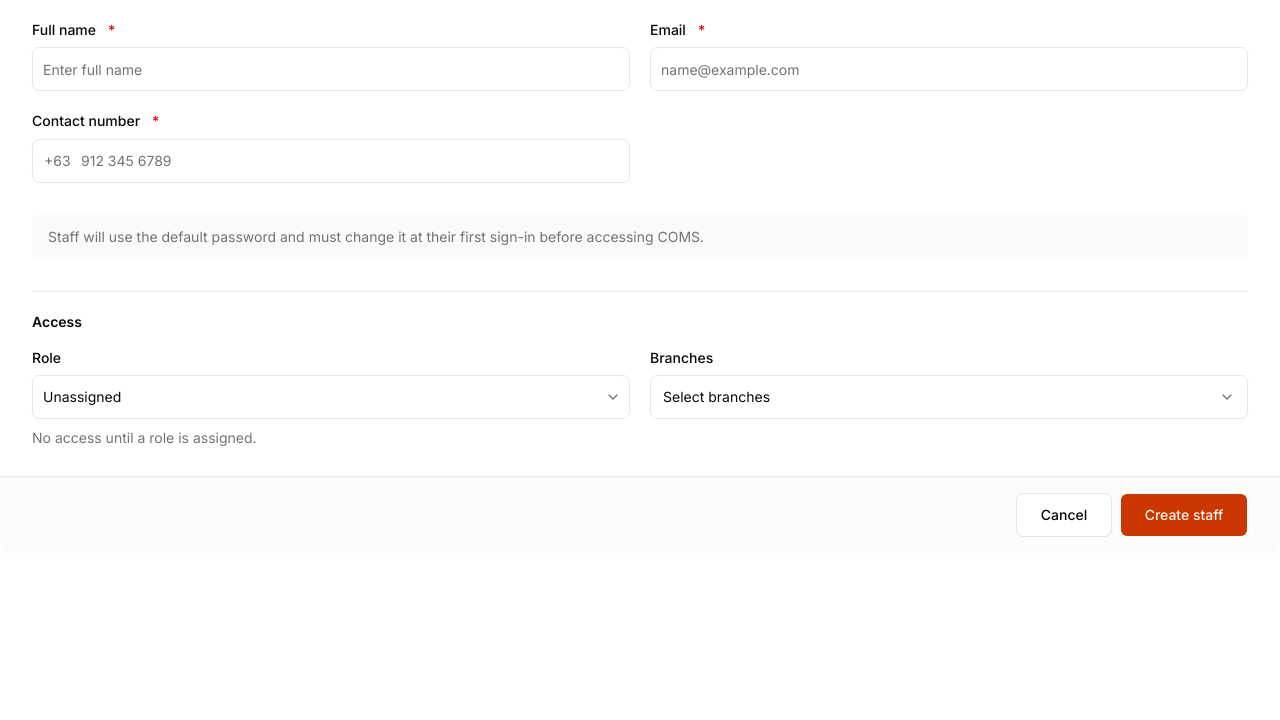
Test case: staff creation › shows inline email and contact number errors before sending a request
The width and height of the screenshot is (1280, 720).
Type "Alex Staff" into the field labelled "Full name" at (331,69), box [32,47,630,91]
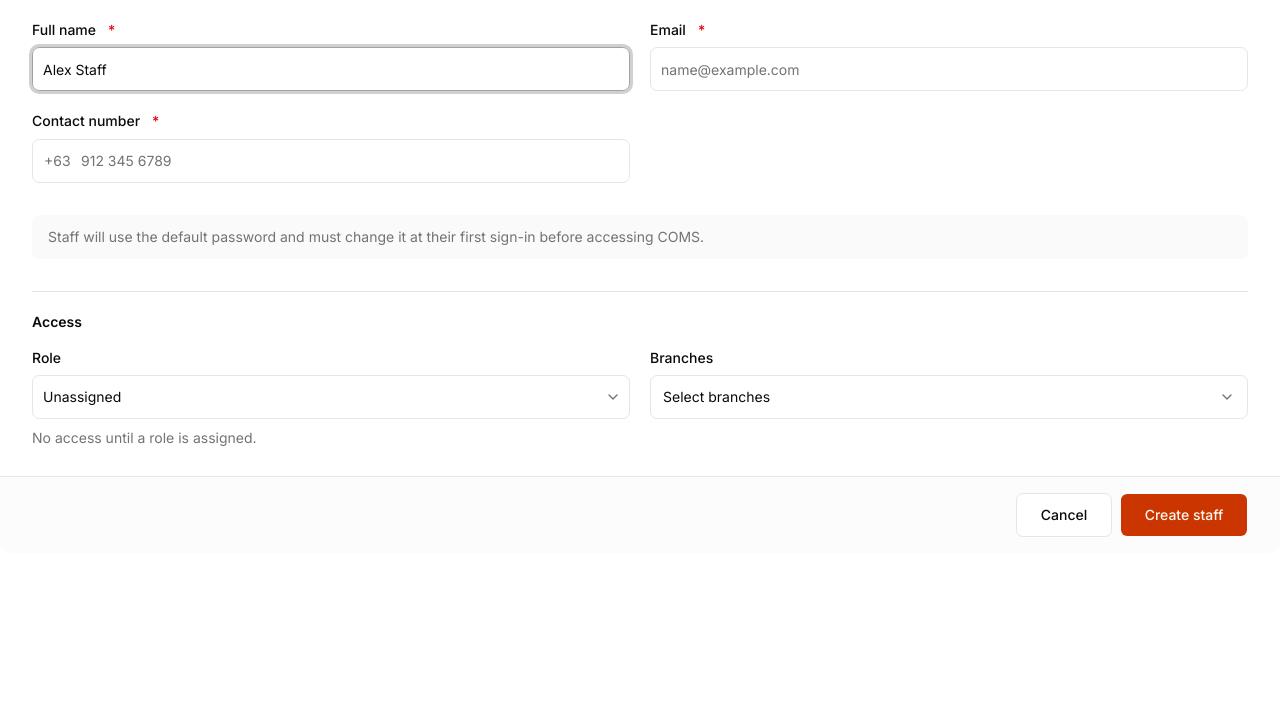
Type "not-an-email" into the field labelled "Email" at (949,69), box [650,47,1248,91]
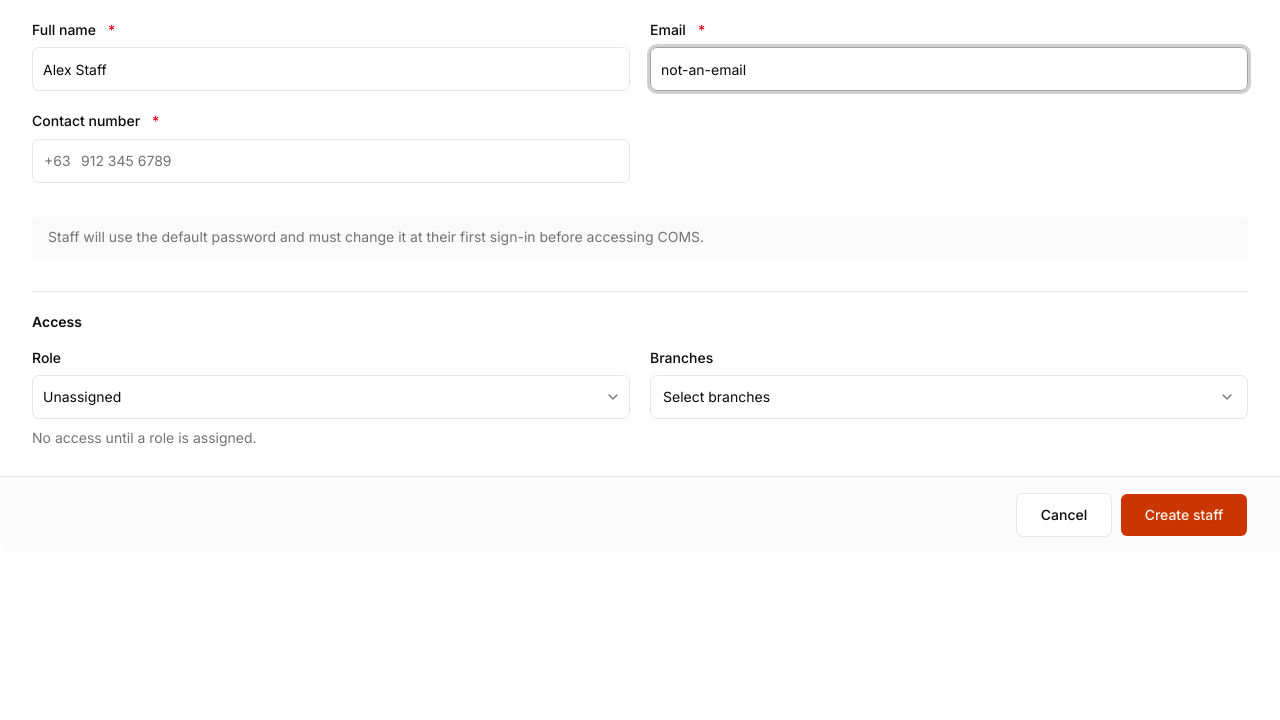
Type "abc123" into the field labelled "Contact number" at (331,160), box [32,138,630,182]
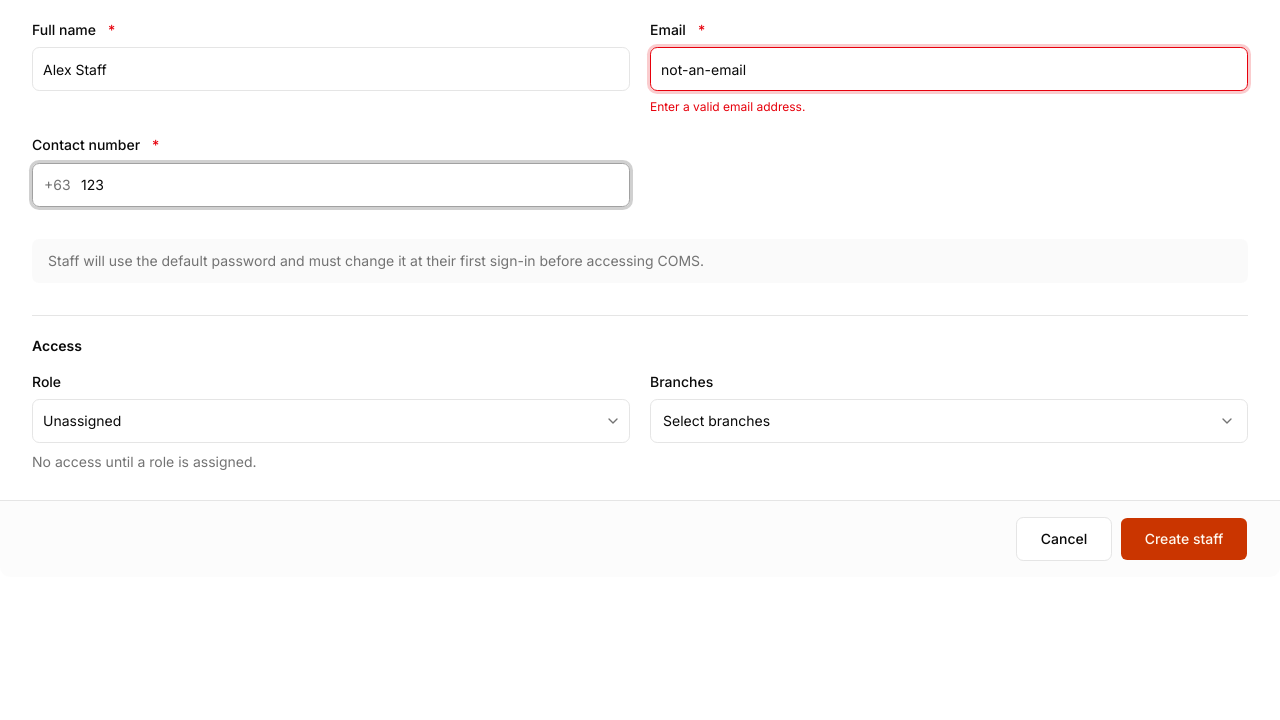
Click the button "Create staff" at (1184,539), box [1120,517,1248,561]
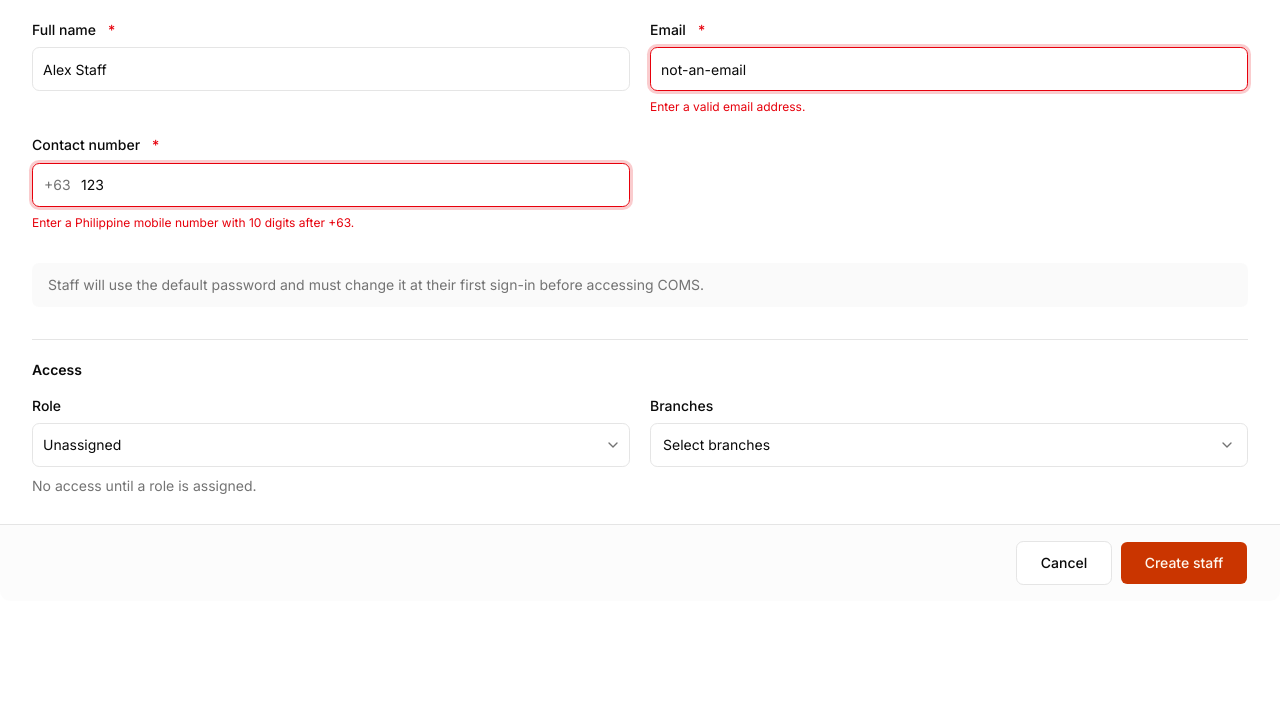
Now the text "Enter a valid email address." is shown, box [650,99,805,114]
Now the text "Enter a Philippine mobile number with 10 digits after +63." is shown, box [32,214,354,230]
